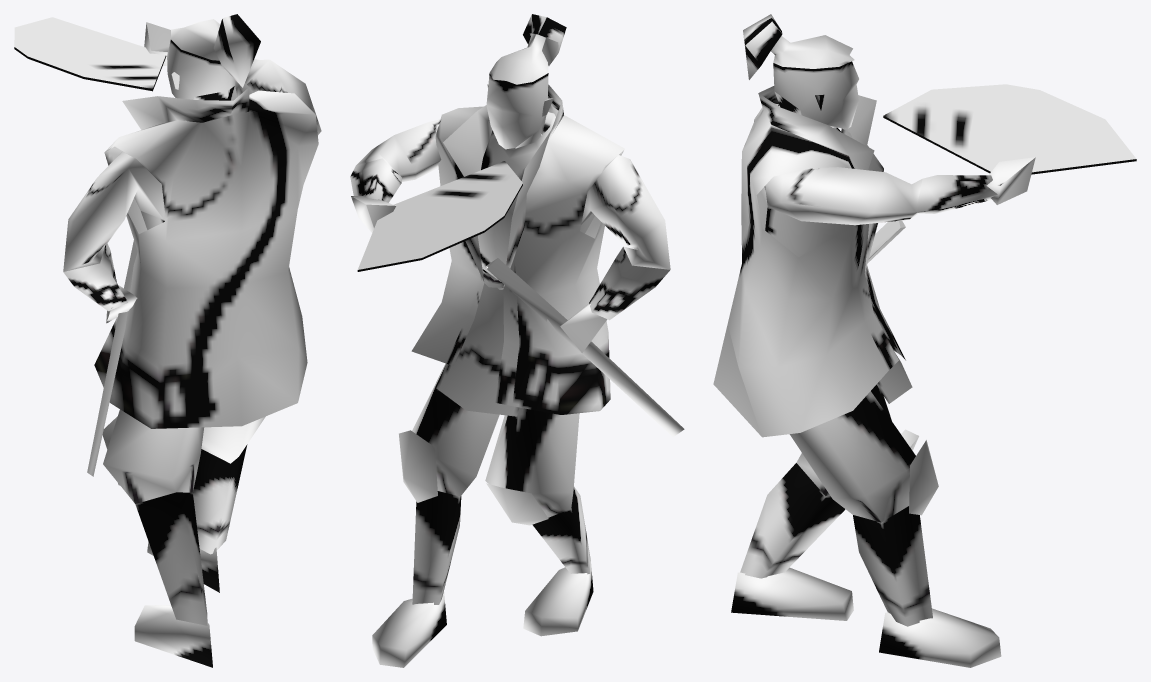
Rendered from saveicon.ico.obj.
The picture shows the model from 3 angles, left to right: view 1: azimuth 30°, elevation 25°; view 2: azimuth 150°, elevation 25°; view 3: azimuth 270°, elevation 25°; orthographic projection. The views are drawn at different scales.
Bounding box in the file's own units: 2.35 × 5 × 3.13.
